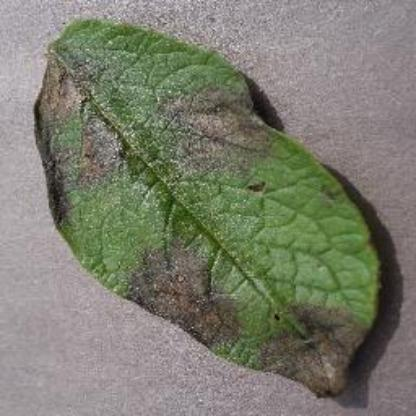Late-Blight: (31, 16, 392, 400)
